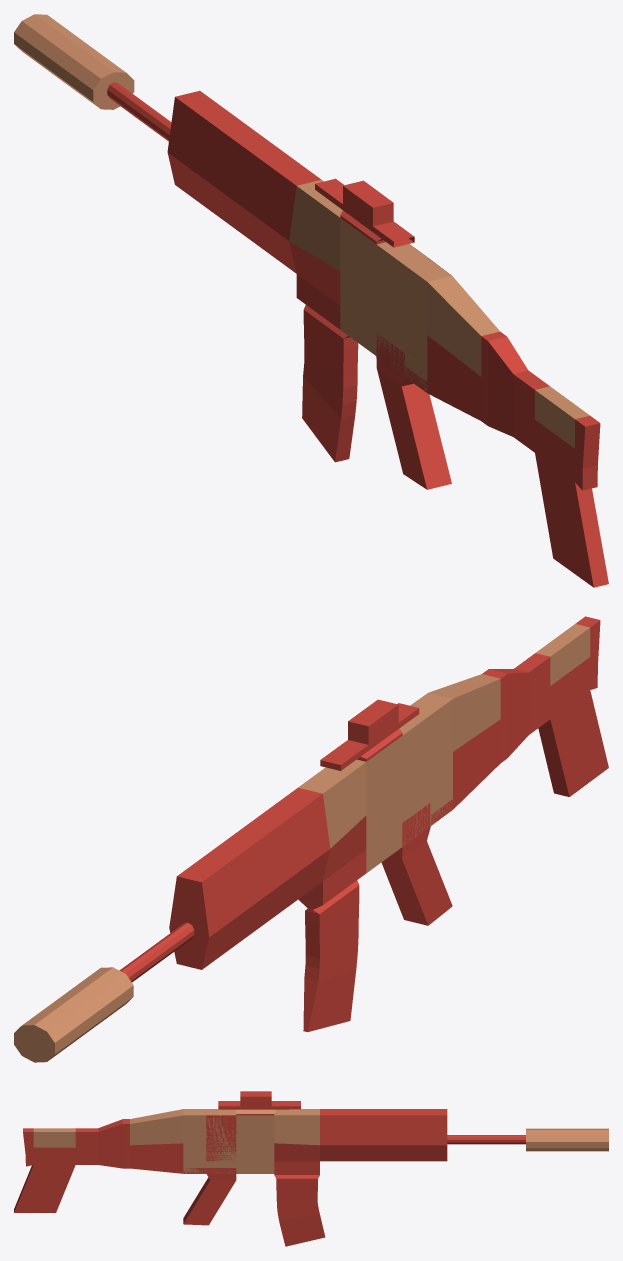
Rendered from scar h belnd.fbx.
3 renders of one model, top to bottom at view 1: azimuth 30°, elevation 25°; view 2: azimuth 150°, elevation 25°; view 3: azimuth 270°, elevation 25°, orthographic. The views are drawn at different scales.
Parts seen in each view (by area): view 1: Cube; view 2: Cube; view 3: Cube.
Part boxes in pixels (left/top/right/bottom): Cube: left=14, top=14, right=608, bottom=587; Cube: left=14, top=616, right=608, bottom=1062; Cube: left=14, top=1091, right=608, bottom=1246.
Size of the model in its own units: 4.73 by 31.07 by 111.
